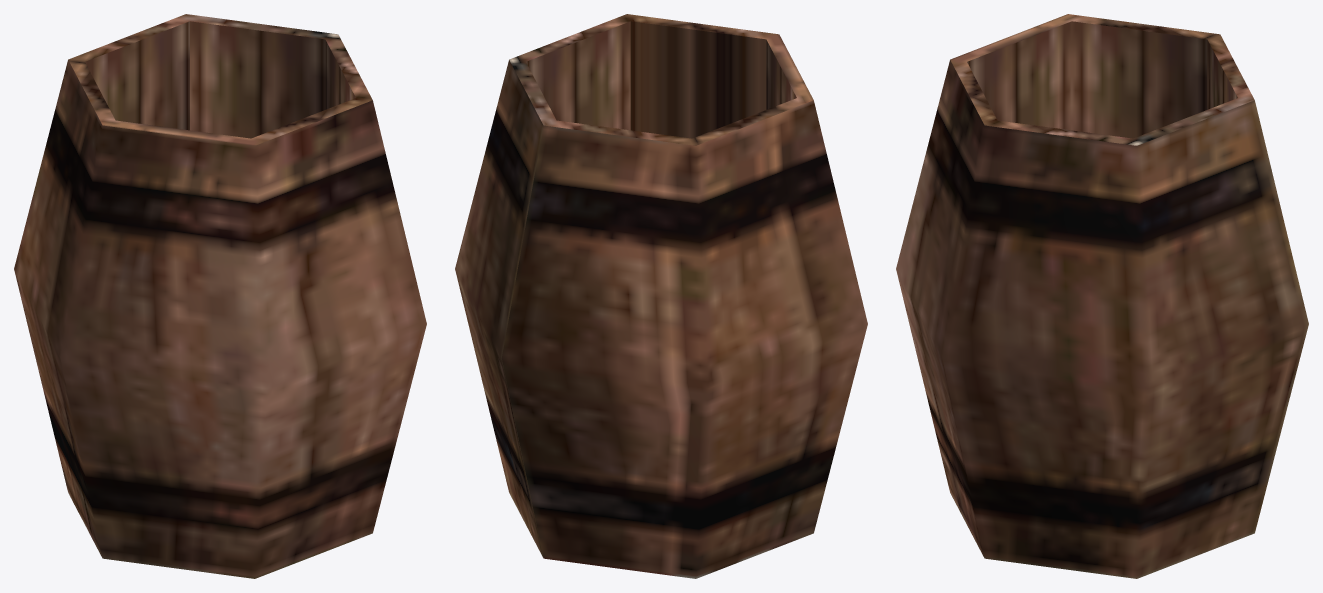
The model's file is wrld_barrel_a_empty_low.dae.
The picture shows the model from 3 angles, left to right: view 1: azimuth 30°, elevation 25°; view 2: azimuth 150°, elevation 25°; view 3: azimuth 270°, elevation 25°; orthographic projection.
Visible parts, largest first — view 1: wrld_barrel_a_low; view 2: wrld_barrel_a_low; view 3: wrld_barrel_a_low.
Boxes of the visible parts, bbox=[...] form: wrld_barrel_a_low: bbox=[14, 14, 426, 578]; wrld_barrel_a_low: bbox=[455, 14, 867, 578]; wrld_barrel_a_low: bbox=[896, 14, 1308, 578].
Bounding box in the file's own units: 1.95 × 1.9 × 2.2.
